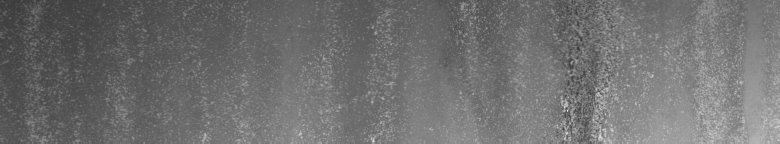hc: (557, 31, 608, 134)
